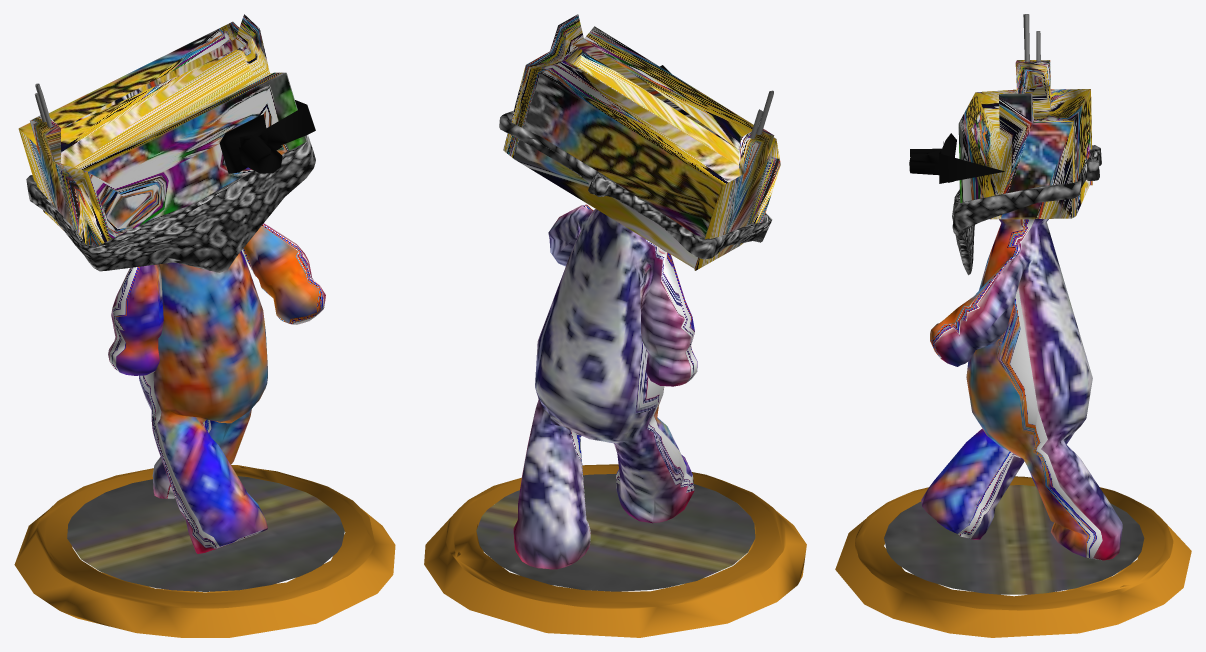
3 views of the same model, side by side, from view 1: azimuth 30°, elevation 25°; view 2: azimuth 150°, elevation 25°; view 3: azimuth 270°, elevation 25° (orthographic). The views are drawn at different scales.
Size of the model in its own units: 1.44 by 2.19 by 1.44.
7 materials, 4 textured.
